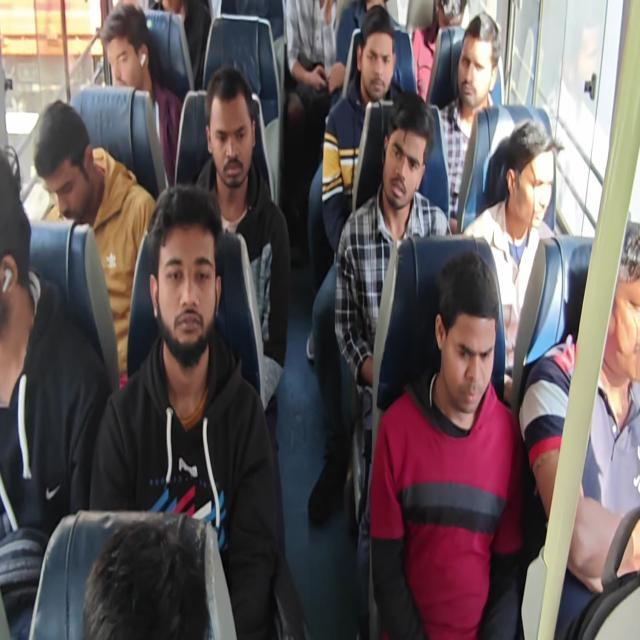person: (1, 1, 638, 638), (88, 182, 282, 638), (333, 90, 452, 637), (368, 250, 526, 638), (0, 146, 108, 638), (306, 6, 404, 525), (518, 218, 640, 595), (195, 65, 292, 449), (33, 99, 157, 387), (462, 118, 562, 397), (321, 6, 402, 253), (81, 517, 214, 639), (284, 0, 346, 256), (99, 2, 182, 186), (434, 11, 502, 232), (284, 0, 346, 128), (411, 0, 466, 103), (152, 0, 211, 89), (335, 0, 388, 67)
